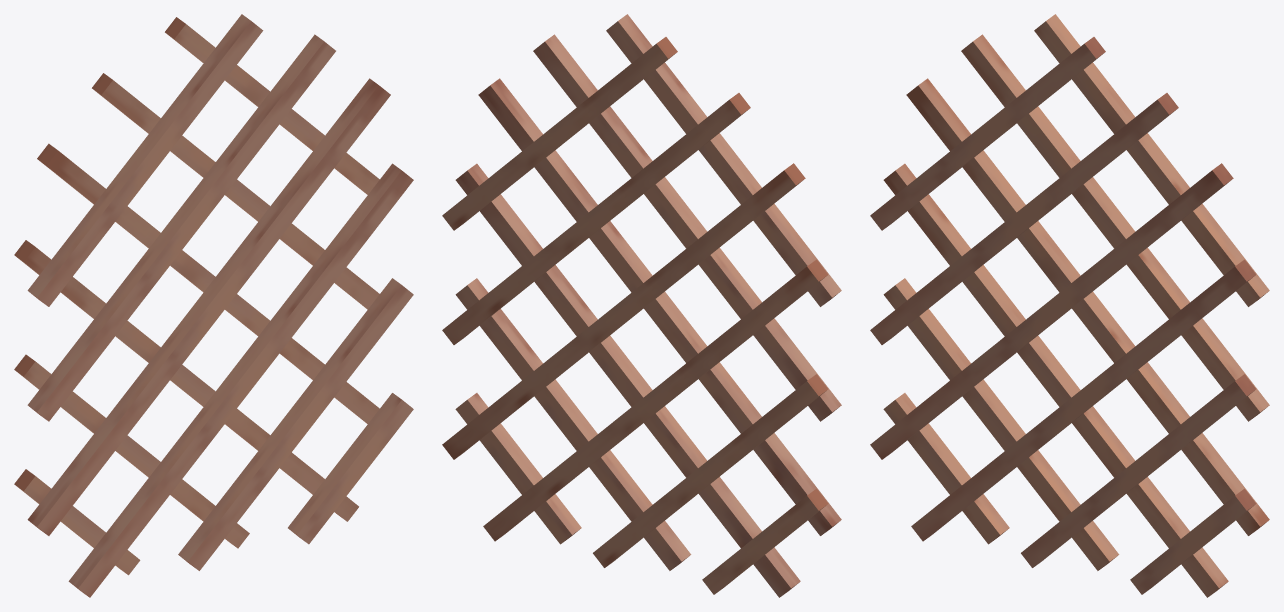
Rendered from wall2_window_window.fbx.
3 views of the same model, side by side, from view 1: azimuth 30°, elevation 25°; view 2: azimuth 150°, elevation 25°; view 3: azimuth 330°, elevation 25° (orthographic).
Parts seen in each view (by area): view 1: wall2_window_window; view 2: wall2_window_window; view 3: wall2_window_window.
Part boxes in pixels (x1,y1,x2,y2): wall2_window_window: [14, 14, 413, 597]; wall2_window_window: [442, 14, 841, 597]; wall2_window_window: [870, 14, 1269, 597].
Bounding box in the file's own units: 2.92 × 3.98 × 0.31.
